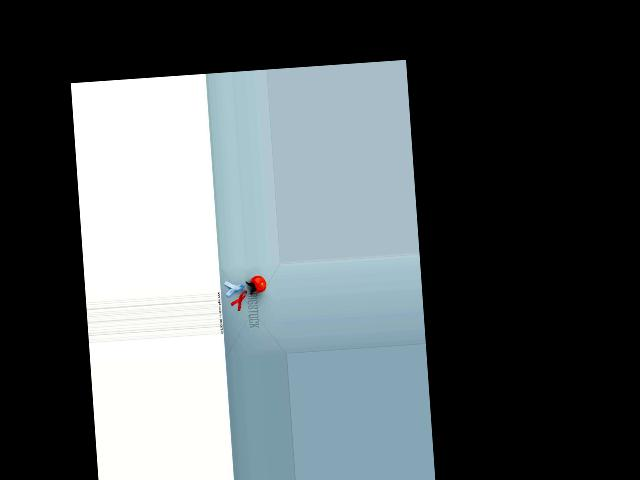tomato: (249, 275, 266, 293)
